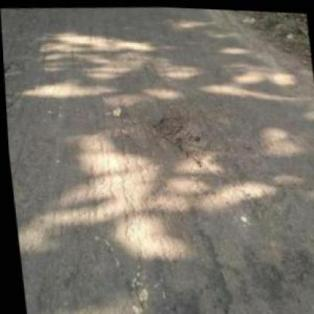Hueco: (149, 108, 212, 174), (3, 60, 26, 82)
